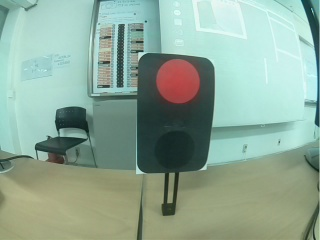red_light: (131, 51, 214, 171)
